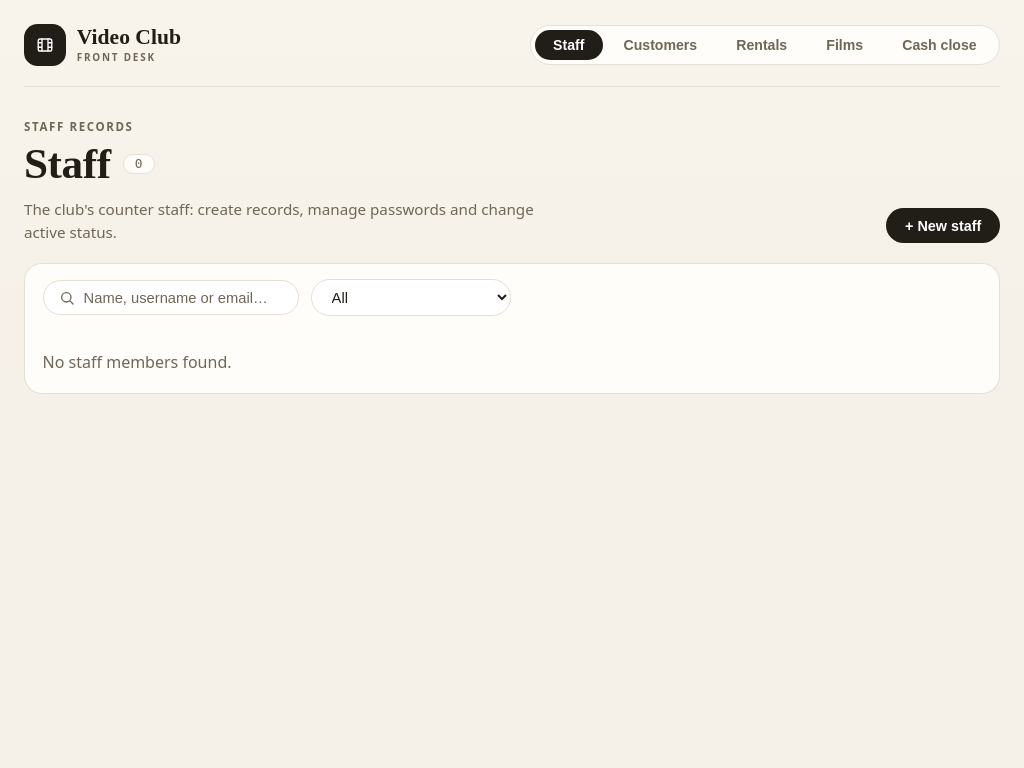
Test: Customers view › edits a member through the service
This screenshot has width=1024, height=768.
Click the tab "Customers" at x=660, y=45, box [605, 30, 716, 60]
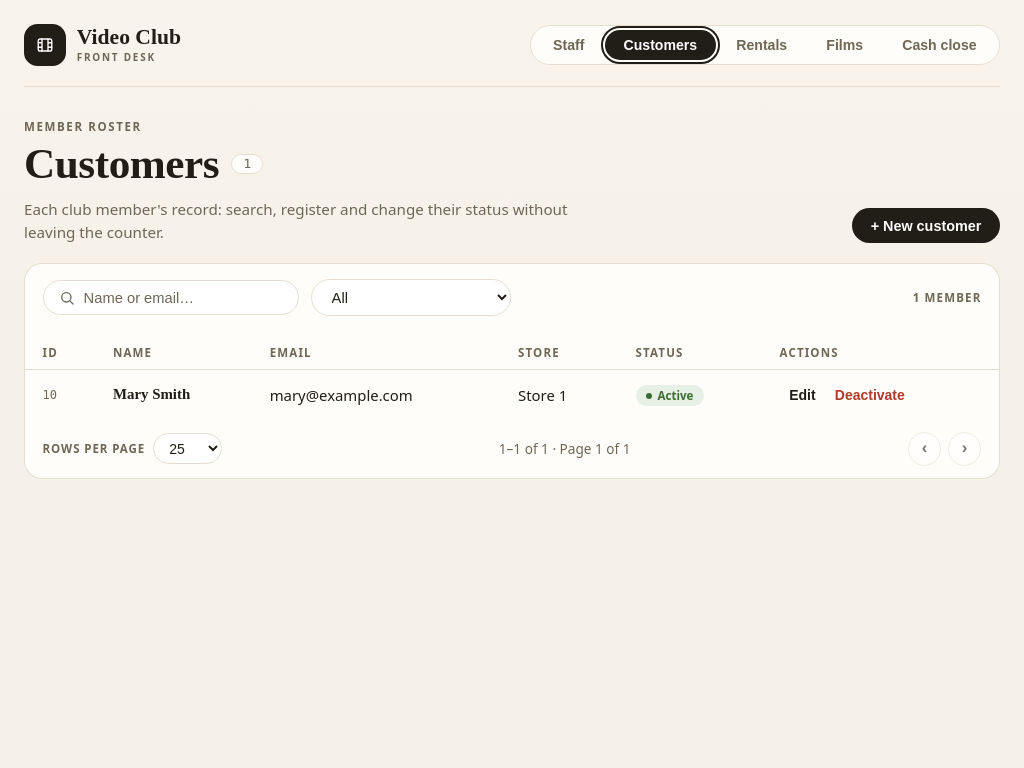
Check: the text "Mary Smith" is shown, box [95, 369, 252, 419]
Click the button "Edit" at x=802, y=395, box [781, 383, 824, 406]
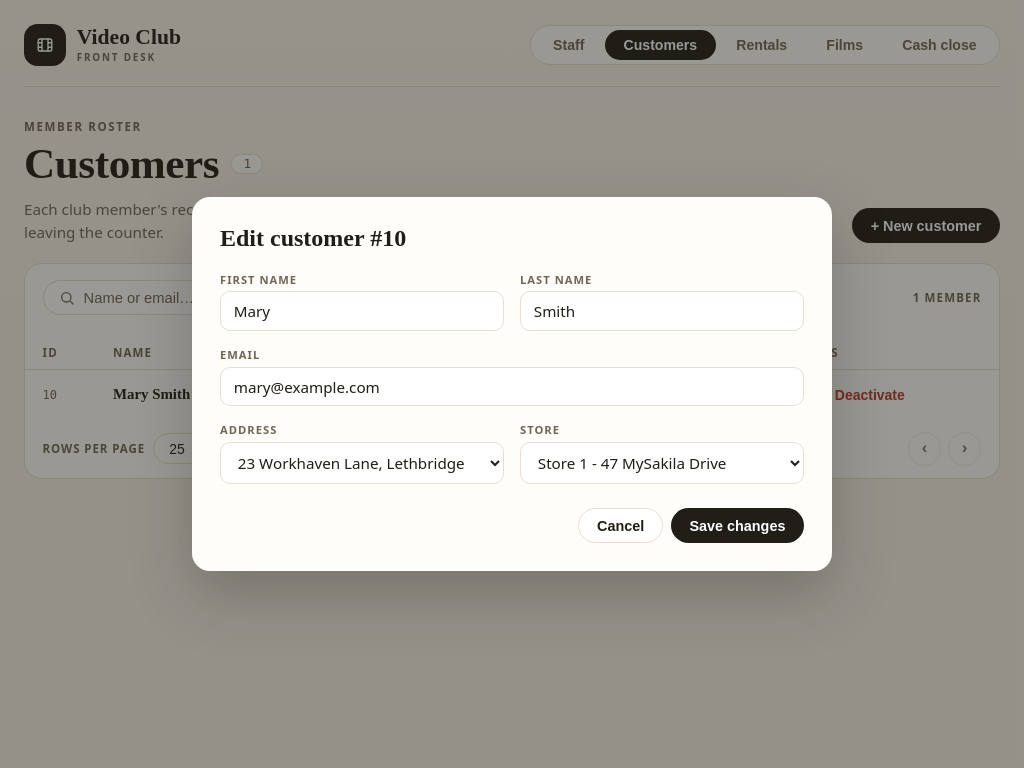
Replace the text in the field labelled "First name" with "María" at x=362, y=311, box [220, 291, 504, 331]
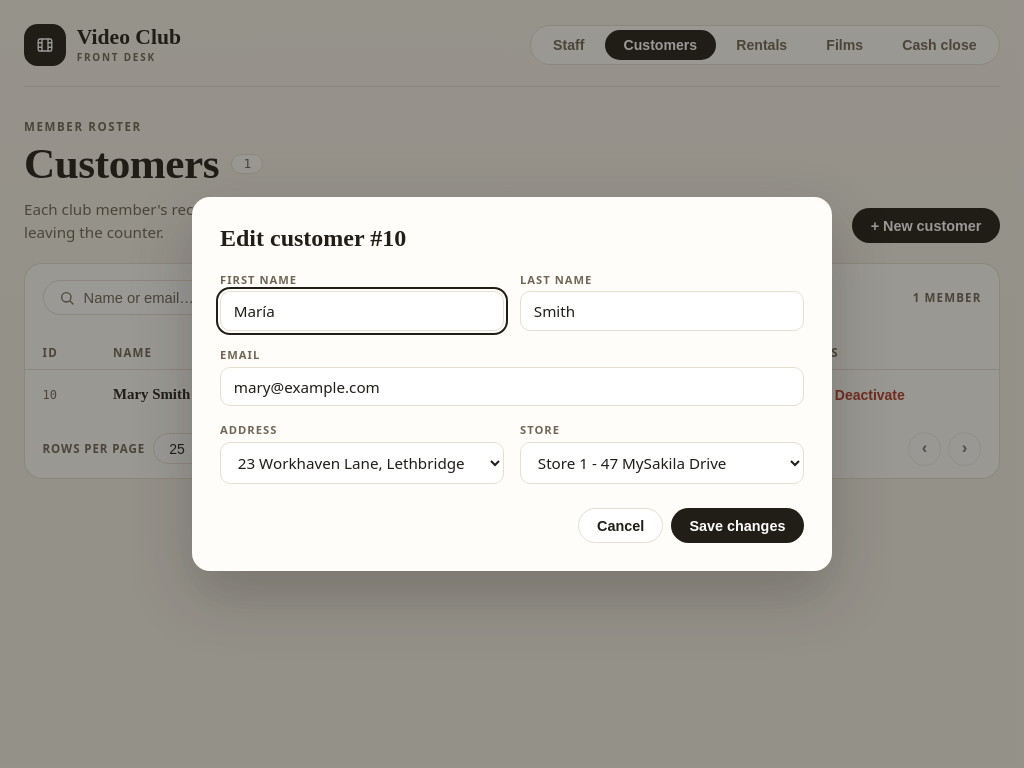
Click the button "Save changes" at x=737, y=526, box [671, 508, 804, 543]
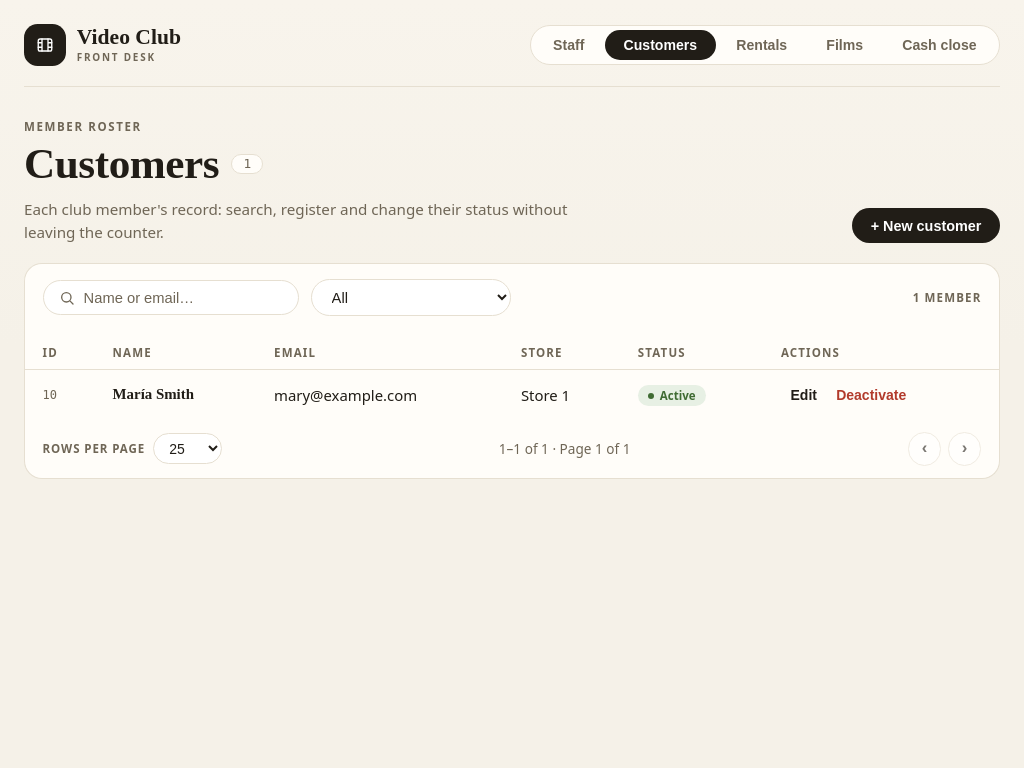
Check: the text "María Smith" is shown, box [95, 369, 256, 419]
